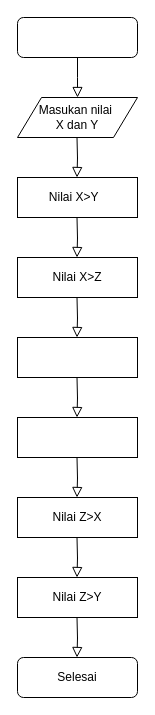
Image size: 155x715. Some labels were removed from this diagram. The shapes that lost their labels are listed below. From the top down, each one's centre as x and y in pixels, then its label:
the point at 77,37: Mulai
the point at 77,357: Nilai Y>X
the point at 77,437: Nilai Y>Z
